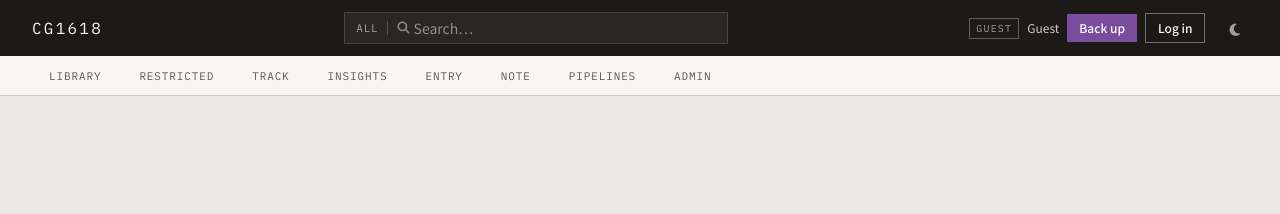
Scenario: Nav gated types › offers no Hentai link to a session that sees the other gated types
Click the button "Restricted": click(177, 76) [122,56,231,96]
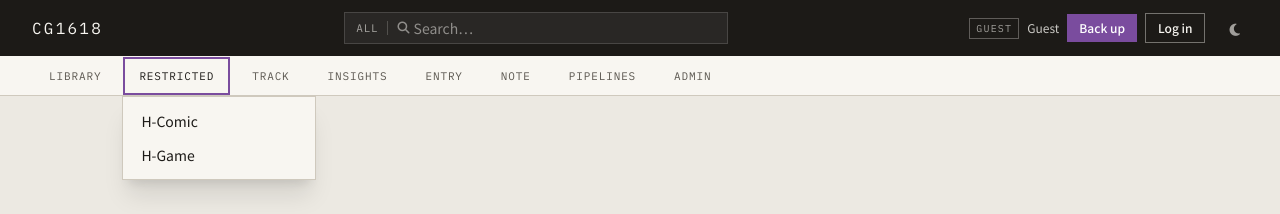
expect the link "H-Game" is shown: met, box [141,145,195,165]
